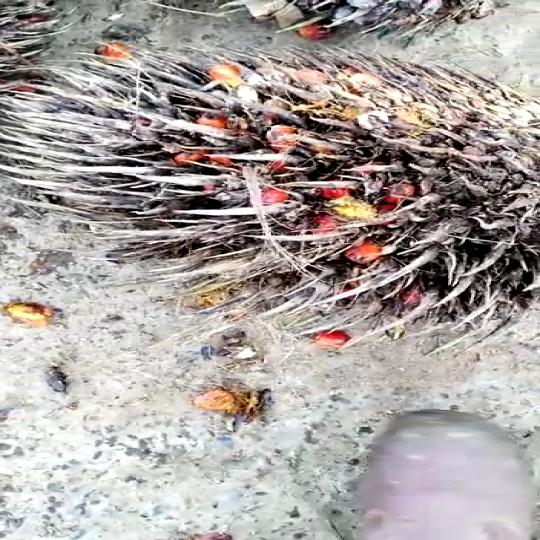terlalu masak: (0, 31, 540, 366)
